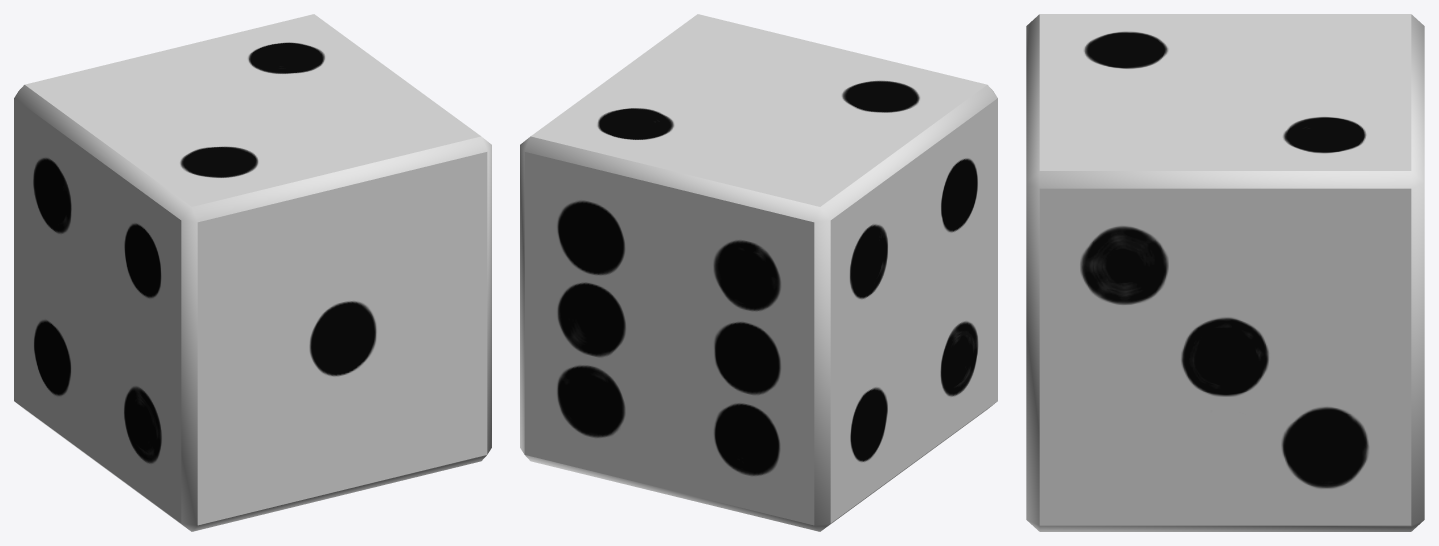
Rendered from dice_roller.glb.
The picture shows the model from 3 angles, left to right: view 1: azimuth 30°, elevation 25°; view 2: azimuth 150°, elevation 25°; view 3: azimuth 270°, elevation 25°; orthographic projection. The views are drawn at different scales.
Parts seen in each view (by area): view 1: Dice_d6_LP; view 2: Dice_d6_LP; view 3: Dice_d6_LP.
Boxes of the visible parts, bbox=[...] form: Dice_d6_LP: bbox=[14, 14, 491, 531]; Dice_d6_LP: bbox=[520, 14, 997, 531]; Dice_d6_LP: bbox=[1026, 14, 1424, 531].
Bounding box in the file's own units: 1.4 × 1.4 × 1.4.
1 material, 1 textured.
